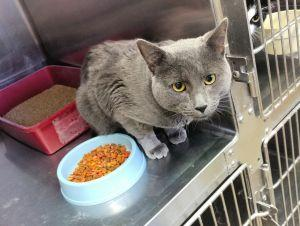rblue: (133, 11, 252, 130)
